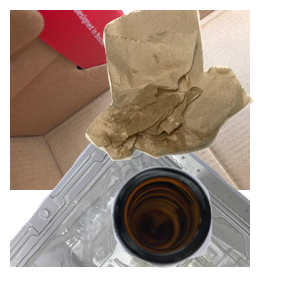cardboard: (10, 10, 250, 190)
glass: (109, 164, 300, 300)
plastic: (10, 120, 250, 300)
trash: (83, 10, 300, 163)
